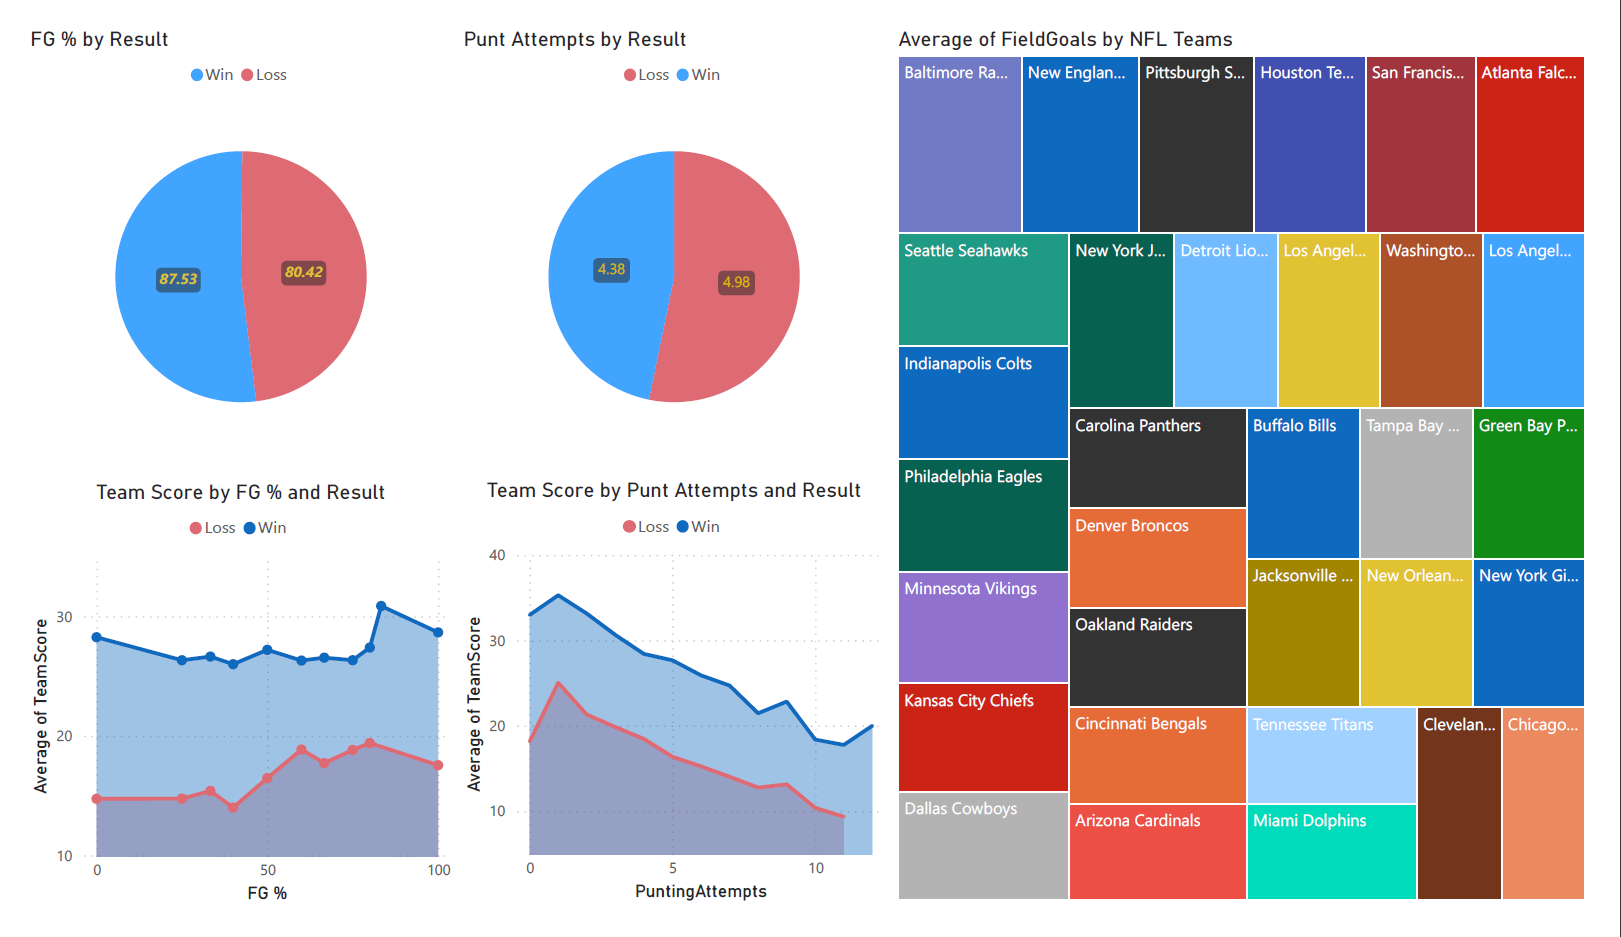

This screenshot's page, from the dashboard's own definition file:
{"tool":"powerbi","page":{"name":"Special Teams","canvas":[1280,720],"ordinal":3},"visuals":[{"type":"pieChart","title":"Punt Attempts by Result","fields":{"Category":["nfl_football_team_stats.Result"],"Y":["Avg(nfl_football_team_stats.PuntingAttempts)"]},"box":[354.3,0,354.3,360.4],"z":1},{"type":"pieChart","title":"FG % by Result","fields":{"Category":["nfl_football_team_stats.Result"],"Y":["Avg(nfl_football_team_stats.FG %)"]},"box":[0,0,354.3,360.4],"z":3},{"type":"stackedAreaChart","fields":{"Y":["nfl_football_team_stats.Wins"],"Category":["nfl_football_team_stats.FieldGoals"]},"box":[0,369.5,354.3,349.8],"z":4},{"type":"treemap","fields":{"Group":["nfl_football_team_stats.NFL Teams"],"Values":["Avg(nfl_football_team_stats.FieldGoals)"]},"box":[708.6,0,570.9,719.2],"z":5},{"type":"areaChart","title":"Team Score by Punt Attempts and Result","fields":{"Category":["nfl_football_team_stats.PuntingAttempts"],"Series":["nfl_football_team_stats.Result"],"Y":["Avg(nfl_football_team_stats.TeamScore)"]},"box":[354,369,354,350],"z":6},{"type":"areaChart","title":"Team Score by FG % and Result","fields":{"Series":["nfl_football_team_stats.Result"],"Category":["nfl_football_team_stats.FG %"],"Y":["Avg(nfl_football_team_stats.TeamScore)"]},"box":[0,370.4,353.4,349.6],"z":7}]}

Visuals, with their boxes in screenshot pixels (x1, y1, x2, y2), scaled from the page's 1280x720 canvas onto the 1621x937 screenshot:
"Punt Attempts by Result" pieChart: l=449, t=0, r=897, b=469
"FG % by Result" pieChart: l=0, t=0, r=449, b=469
stackedAreaChart - nfl_football_team_stats.Wins x nfl_football_team_stats.FieldGoals: l=0, t=481, r=449, b=936
treemap - nfl_football_team_stats.NFL Teams x Avg(nfl_football_team_stats.FieldGoals): l=897, t=0, r=1620, b=936
"Team Score by Punt Attempts and Result" areaChart: l=448, t=480, r=897, b=936
"Team Score by FG % and Result" areaChart: l=0, t=482, r=448, b=936
